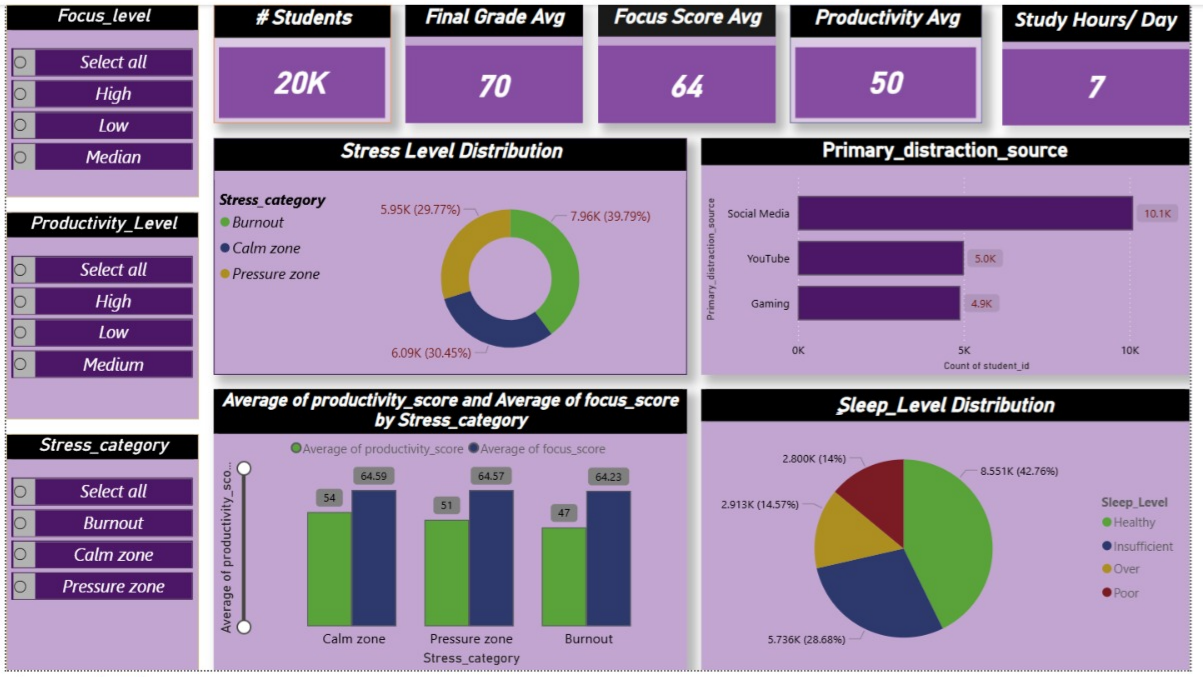

Layout of this report page (visuals, bound fields, positions):
{"tool":"powerbi","page":{"name":"Page 1","canvas":[1280,720],"ordinal":0},"visuals":[{"type":"advanceCardE03760C5AB684758B56AA29F9E6C257B","title":"# Students ","fields":{"mainMeasure":["CountNonNull(Productivity_vs__Distraction.student_id)"]},"box":[224,0,192,128],"z":0},{"type":"advanceCardE03760C5AB684758B56AA29F9E6C257B","title":"Final Grade Avg","fields":{"mainMeasure":["Avg(Productivity_vs__Distraction.final_grade)"]},"box":[432,0,192,128],"z":1000},{"type":"advanceCardE03760C5AB684758B56AA29F9E6C257B","title":"Focus Score Avg","fields":{"mainMeasure":["Avg(Productivity_vs__Distraction.focus_score)"]},"box":[640,0,192,128],"z":2000},{"type":"advanceCardE03760C5AB684758B56AA29F9E6C257B","title":"Productivity Avg","fields":{"mainMeasure":["Avg(Productivity_vs__Distraction.productivity_score)"]},"box":[848,0,208,128],"z":3000},{"type":"advanceCardE03760C5AB684758B56AA29F9E6C257B","title":"Study Hours/ Day","fields":{"mainMeasure":["Avg(Productivity_vs__Distraction.sleep_hours)"]},"box":[1077.6,0,202.6,130.3],"z":4000},{"type":"donutChart","title":"Stress Level Distribution","fields":{"Category":["Productivity_vs__Distraction.Stress_category"],"Y":["CountNonNull(Productivity_vs__Distraction.student_id)"]},"box":[224,144,512,256],"z":5000},{"type":"barChart","title":"Primary_distraction_source","fields":{"Category":["Productivity_vs__Distraction.Primary_distraction_source"],"Y":["CountNonNull(Productivity_vs__Distraction.student_id)"]},"box":[752,144,528,256],"z":6000},{"type":"clusteredColumnChart","fields":{"Category":["Productivity_vs__Distraction.Stress_category"],"Y":["Avg(Productivity_vs__Distraction.productivity_score)","Avg(Productivity_vs__Distraction.focus_score)"]},"box":[224,416,512,304],"z":7000},{"type":"pieChart","title":"ٍٍSleep_Level Distribution","fields":{"Category":["Productivity_vs__Distraction.Sleep_Level"],"Y":["CountNonNull(Productivity_vs__Distraction.student_id)"]},"box":[752,416,528,304],"z":8000},{"type":"listSlicer","fields":{"Values":["Productivity_vs__Distraction.Focus_level"]},"box":[0,0,208,208],"z":9000},{"type":"listSlicer","fields":{"Values":["Productivity_vs__Distraction.Productivity_Level"]},"box":[0,224,208,224],"z":10000},{"type":"listSlicer","fields":{"Values":["Productivity_vs__Distraction.Stress_category"]},"box":[0,464,208,256],"z":11000}]}

Visuals, with their boxes in screenshot pixels (x1, y1, x2, y2), scaled from the page's 1280x720 canvas onto the 1203x677 screenshot:
"# Students " advanceCardE03760C5AB684758B56AA29F9E6C257B: (x1=211, y1=0, x2=391, y2=120)
"Final Grade Avg" advanceCardE03760C5AB684758B56AA29F9E6C257B: (x1=406, y1=0, x2=586, y2=120)
"Focus Score Avg" advanceCardE03760C5AB684758B56AA29F9E6C257B: (x1=602, y1=0, x2=782, y2=120)
"Productivity Avg" advanceCardE03760C5AB684758B56AA29F9E6C257B: (x1=797, y1=0, x2=992, y2=120)
"Study Hours/ Day" advanceCardE03760C5AB684758B56AA29F9E6C257B: (x1=1013, y1=0, x2=1202, y2=123)
"Stress Level Distribution" donutChart: (x1=211, y1=135, x2=692, y2=376)
"Primary_distraction_source" barChart: (x1=707, y1=135, x2=1202, y2=376)
clusteredColumnChart - Productivity_vs__Distraction.Stress_category x Avg(Productivity_vs__Distraction.productivity_score): (x1=211, y1=391, x2=692, y2=676)
"ٍٍSleep_Level Distribution" pieChart: (x1=707, y1=391, x2=1202, y2=676)
listSlicer - Productivity_vs__Distraction.Focus_level: (x1=0, y1=0, x2=195, y2=196)
listSlicer - Productivity_vs__Distraction.Productivity_Level: (x1=0, y1=211, x2=195, y2=421)
listSlicer - Productivity_vs__Distraction.Stress_category: (x1=0, y1=436, x2=195, y2=676)
